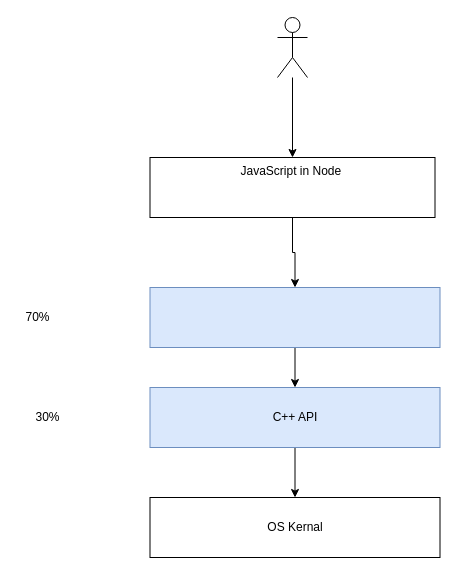
The diagram is 457 pixels wide and 575 high, and some of its shapes have lost their labels. The shapes that lost their labels are listed below. From the top down, each one's centre as x and y in pixels, then its label:
the point at 292,47: Actor
the point at 294,317: JavaScript API
